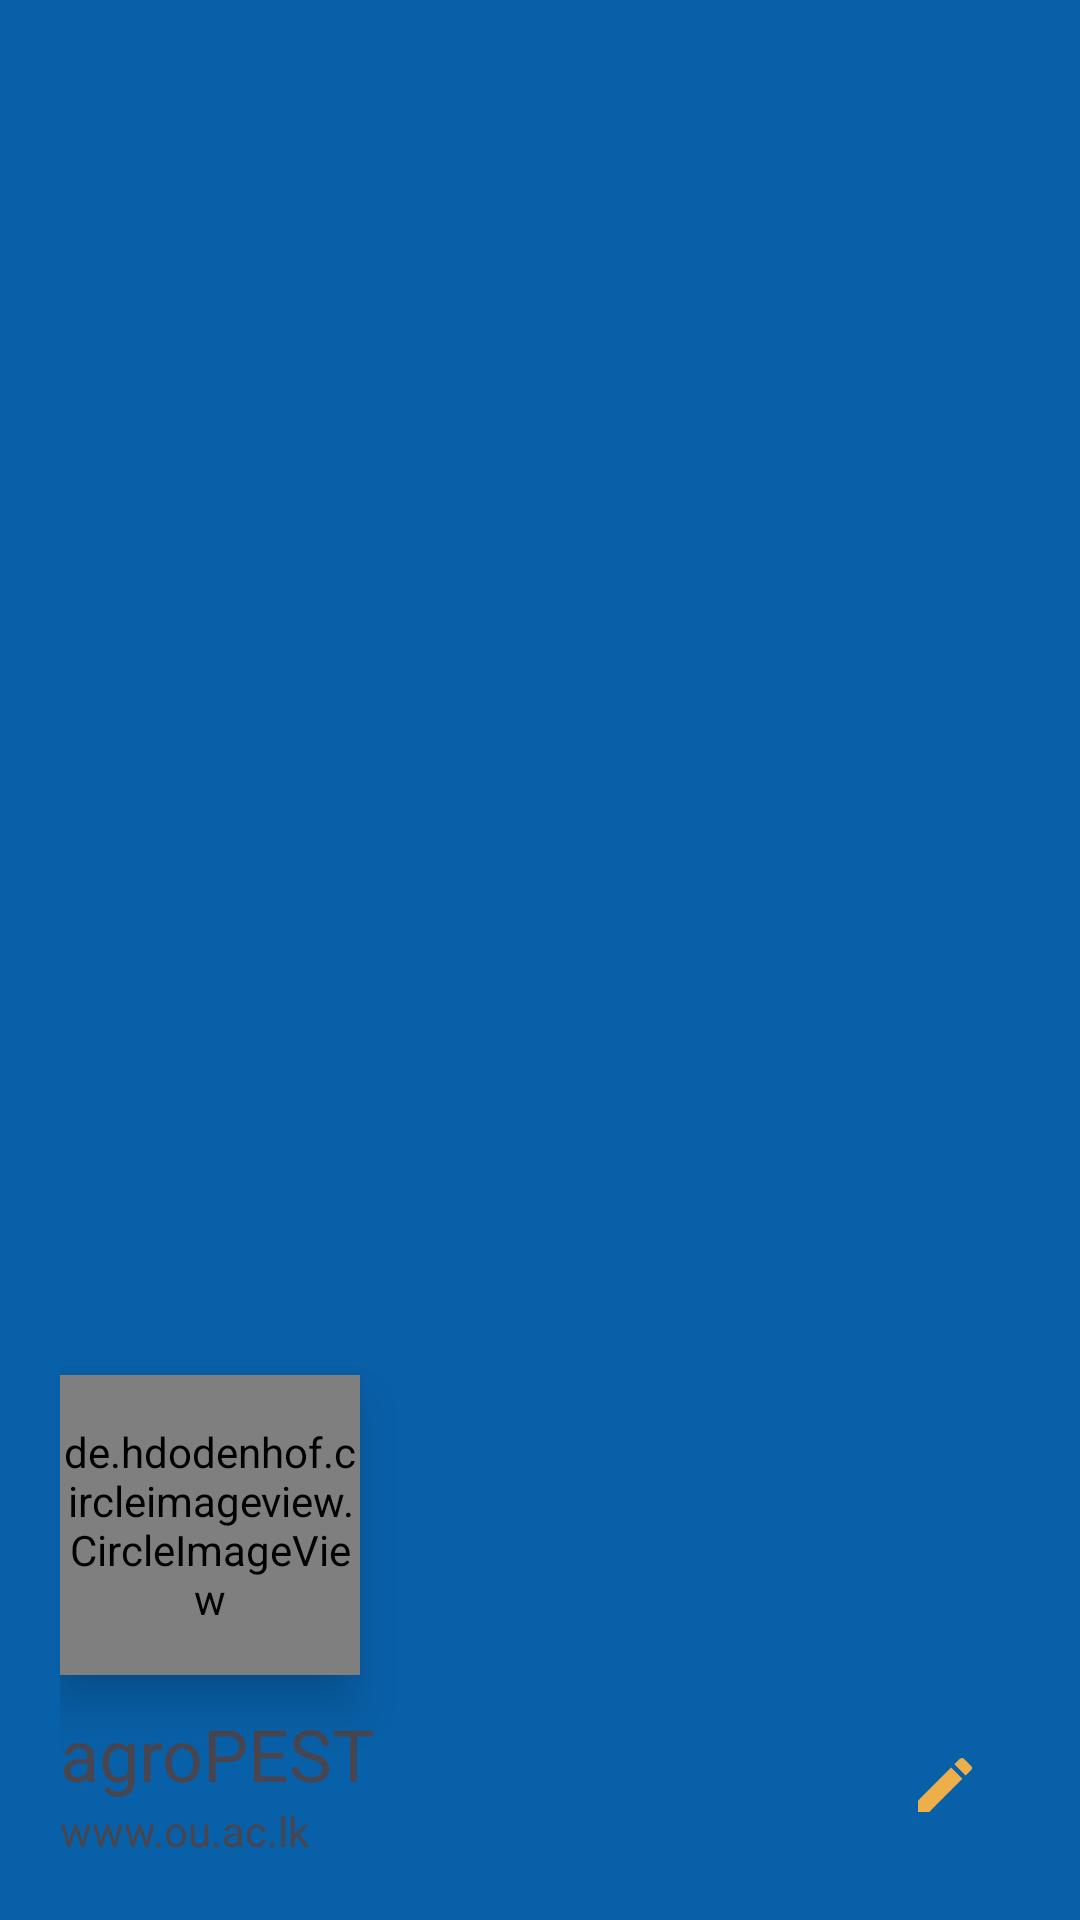

Icons on this 1080 x 1920 Android screen, each with the point to tap as (x=x, y=y):
edit: (x=945, y=1785)
